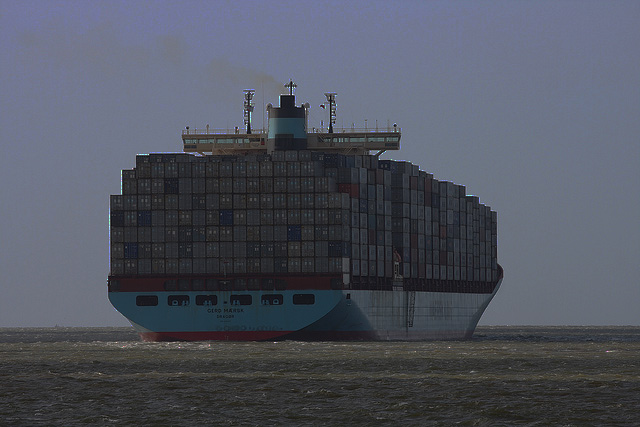container_ship: (108, 79, 509, 338)
